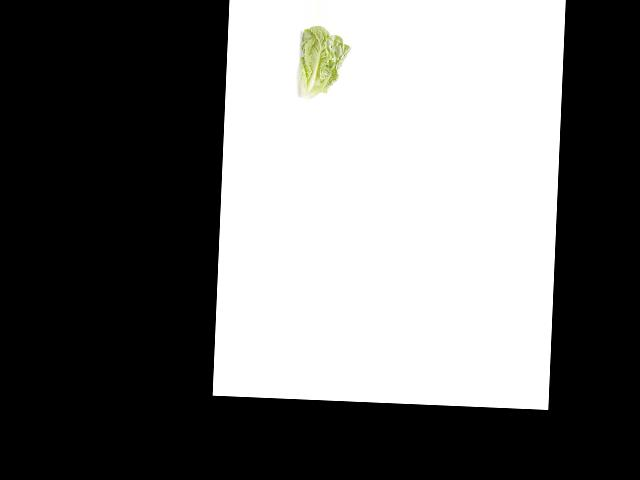lettuce: (287, 24, 352, 104)
